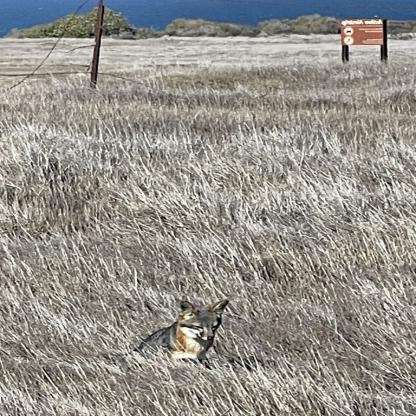zorro: (114, 295, 238, 368)
